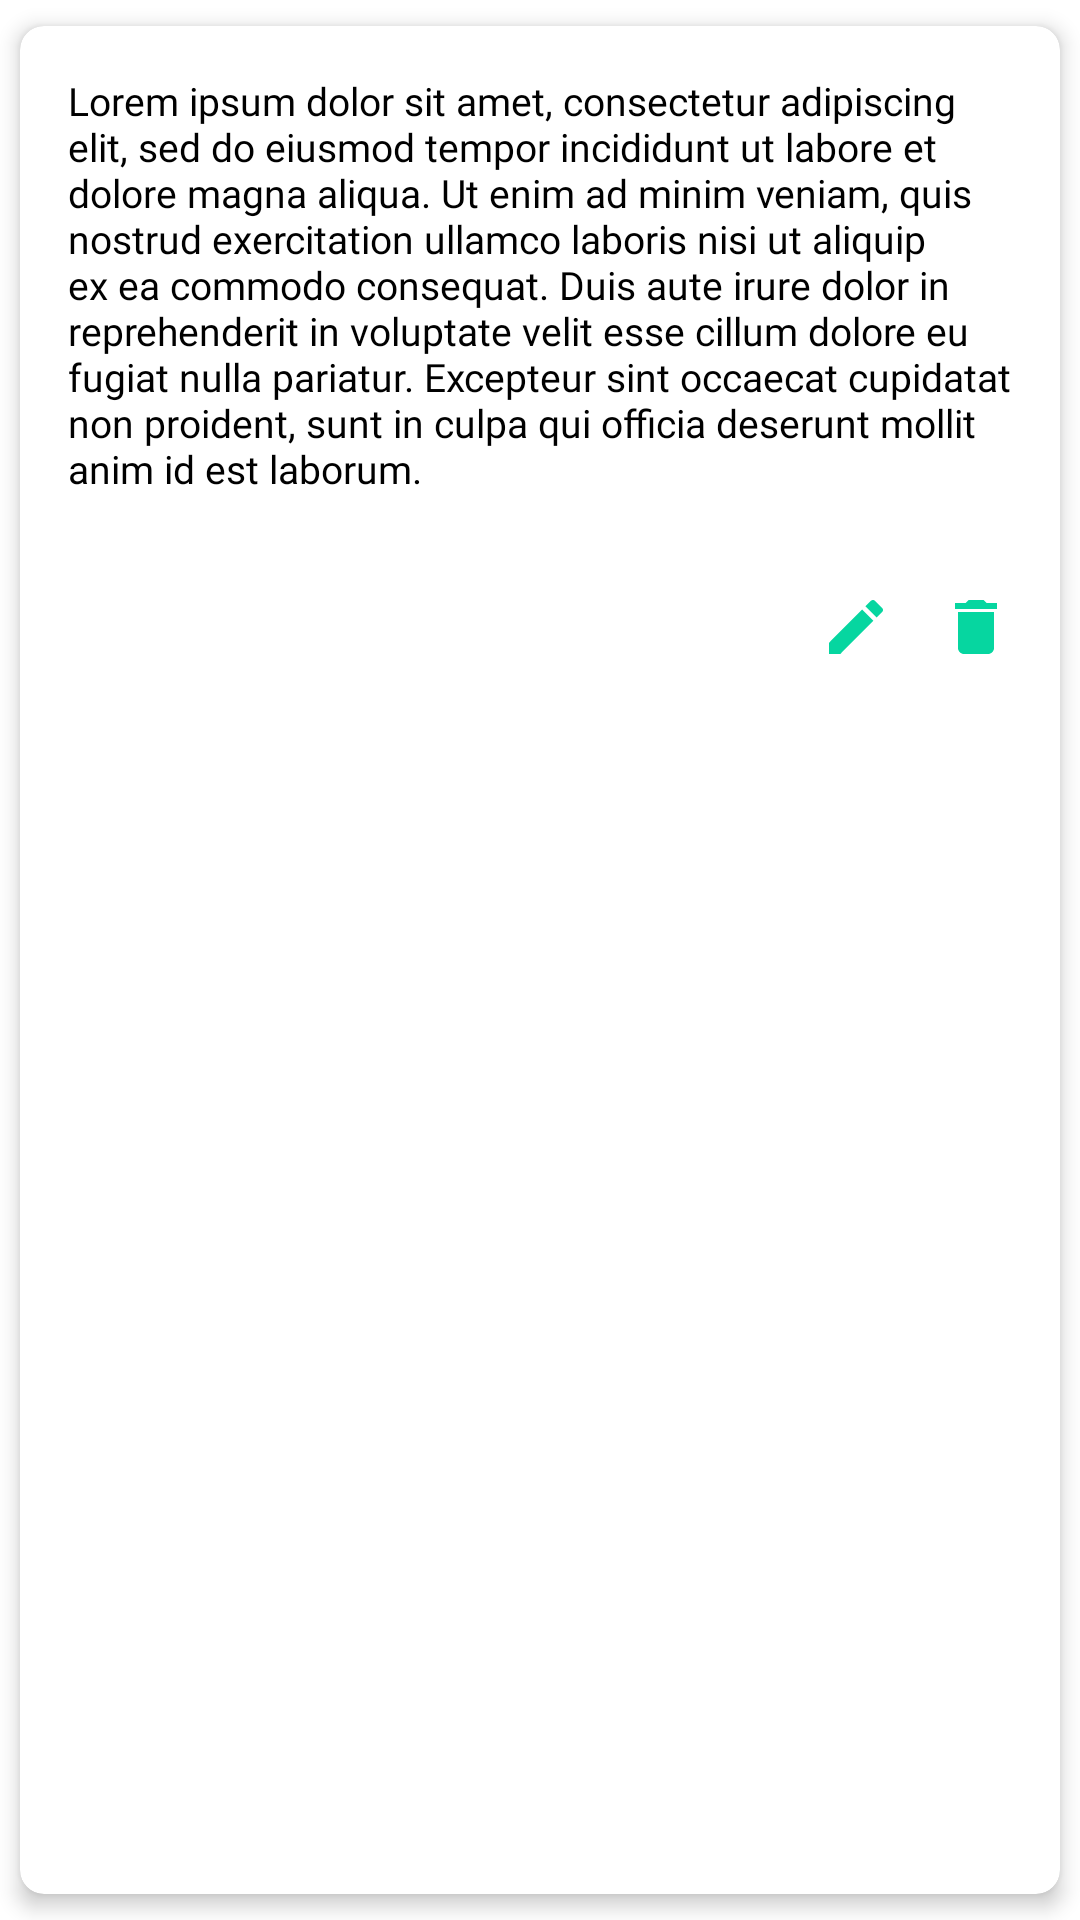

Point at icon controls on the screen. Image size 1080 × 1920, points as (x,y).
delete: (976,627)
edit: (856,627)
